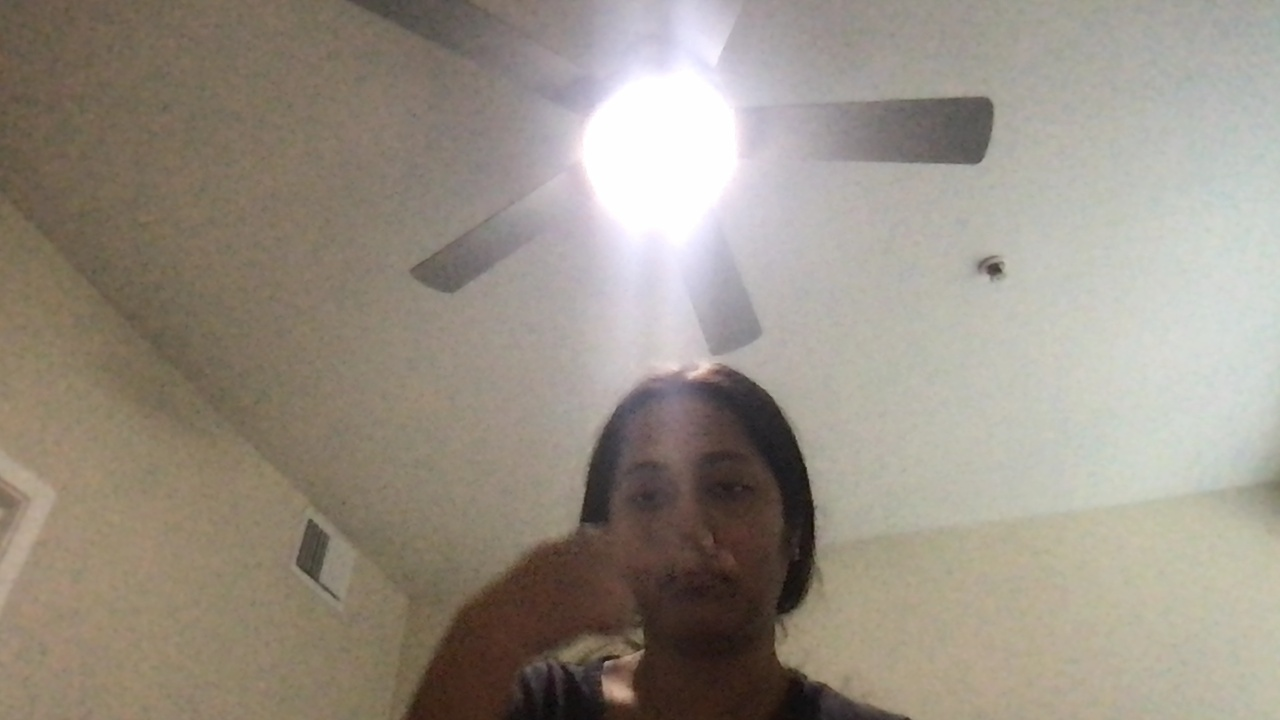h: (537, 529, 739, 648)
